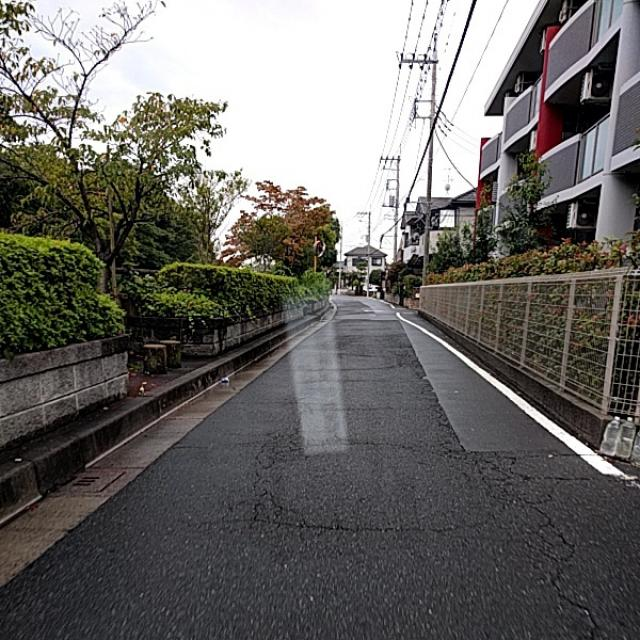pothole: (246, 436, 572, 554)
